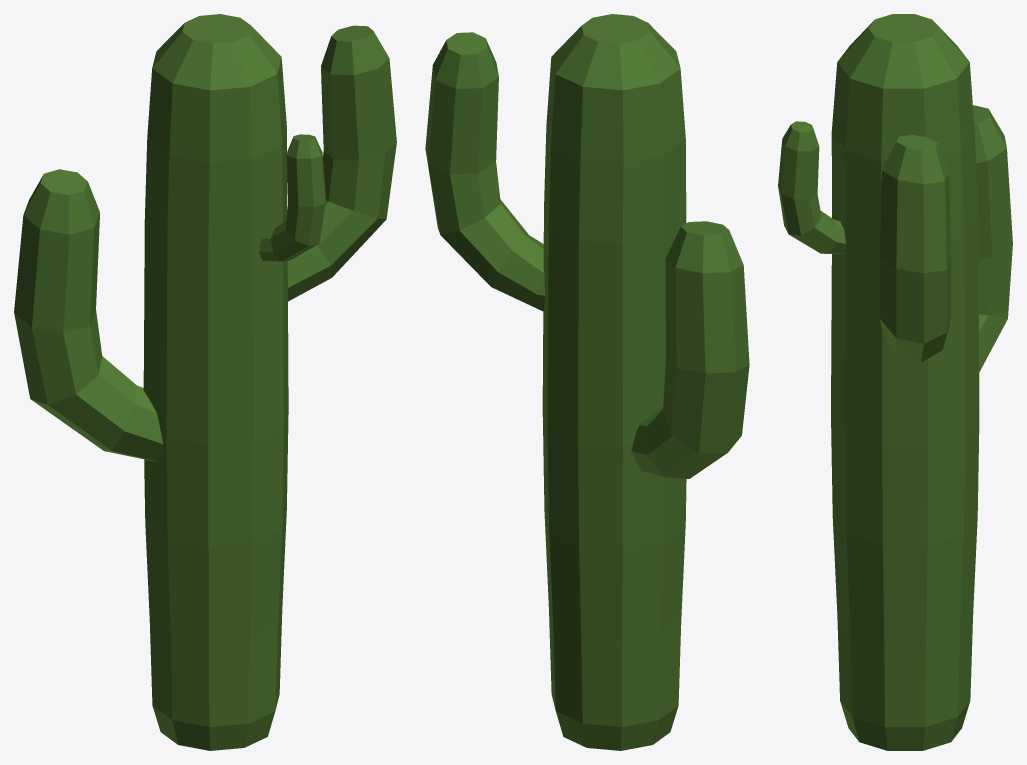
The model's file is Cactus.fbx.
The picture shows the model from 3 angles, left to right: view 1: azimuth 30°, elevation 25°; view 2: azimuth 150°, elevation 25°; view 3: azimuth 270°, elevation 25°; orthographic projection.
Parts seen in each view (by area): view 1: Circle; view 2: Circle; view 3: Circle.
Boxes of the visible parts, x1,y1,x2,y2 form: Circle: [14, 14, 396, 750]; Circle: [425, 14, 749, 750]; Circle: [778, 14, 1012, 750].
Size of the model in its own units: 607 by 1185 by 361.
